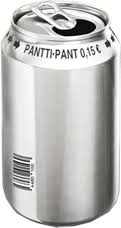can: (1, 1, 120, 228)
